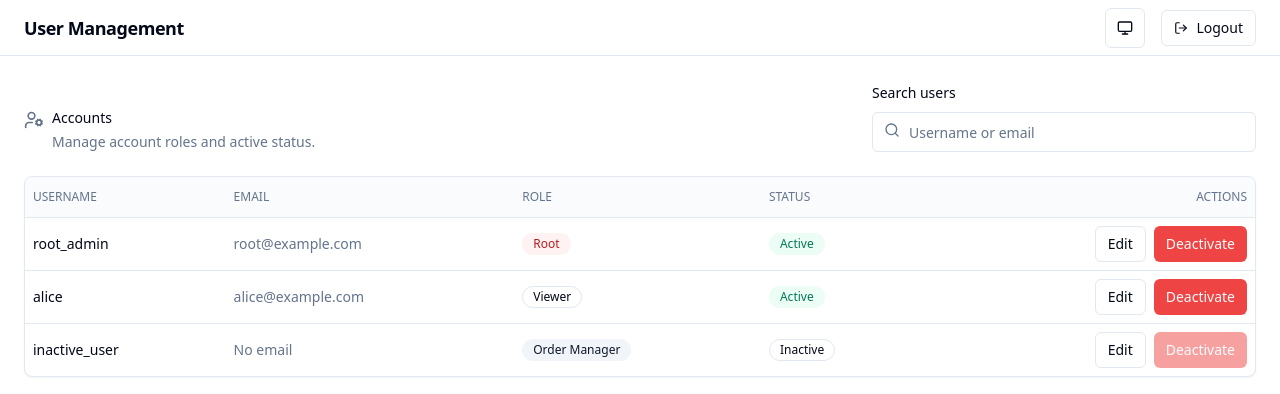
AdminUsersPage root operations › cancels editing without sending an update
The image size is (1280, 394).
Expected: the text "alice" is shown, [33,286,63,306]
Click the button "Edit" in the row of "alice@example.com" at (1120, 296), box [1095,278,1146,314]
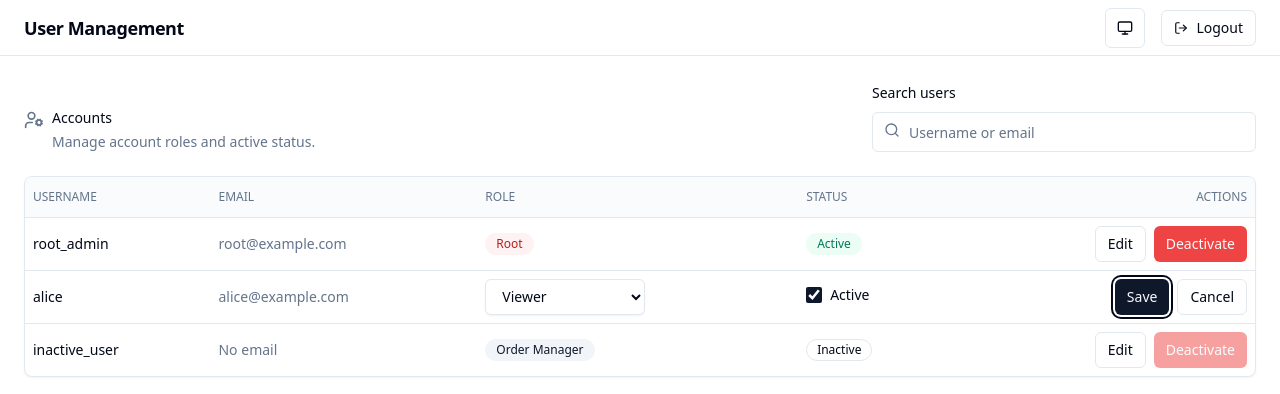
Select "Scheduler" in the dropdown named "role for alice" at (565, 296), box [485,278,645,314]
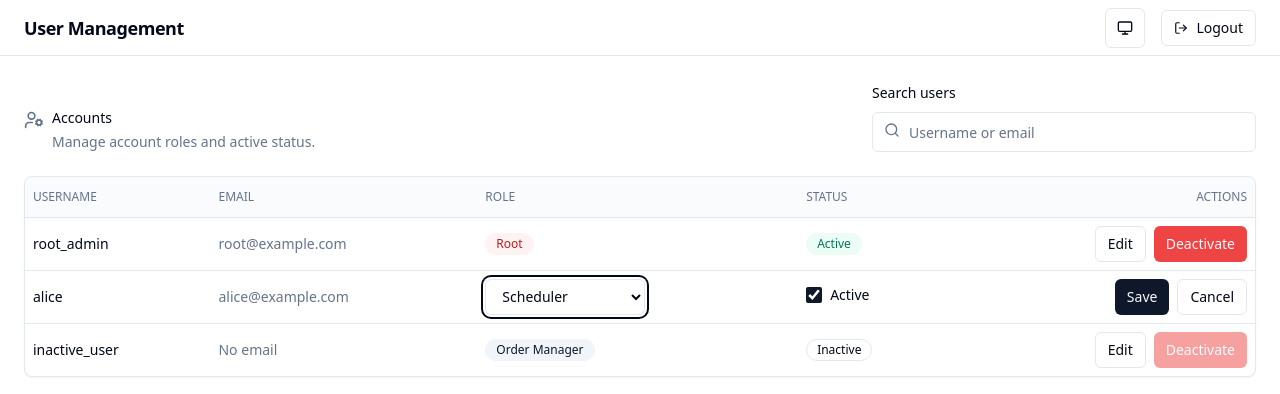
Click the button "Cancel" at (1212, 296), box [1177,278,1247,314]
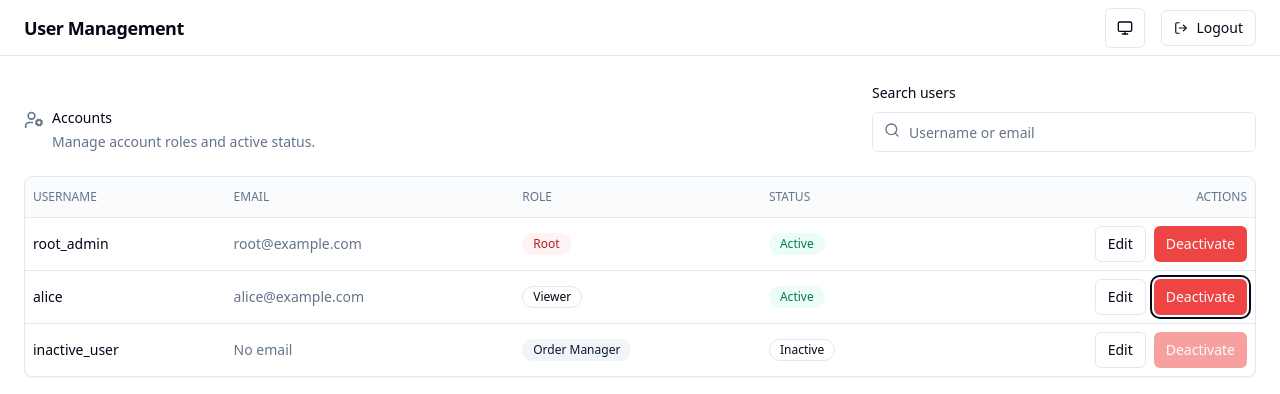
Result: the button "Edit" in the row of "alice@example.com" is shown at [1095,278,1146,314]
